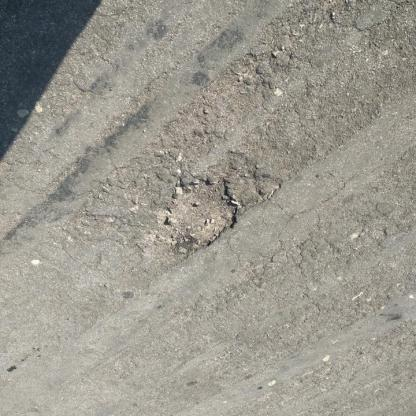pothole: (151, 175, 245, 257)
